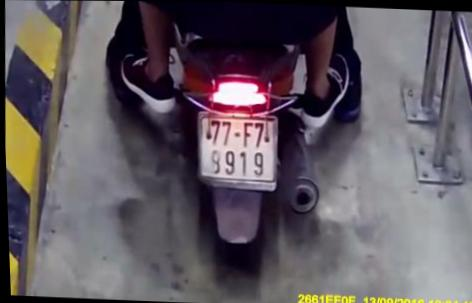LP: (192, 107, 283, 193)
